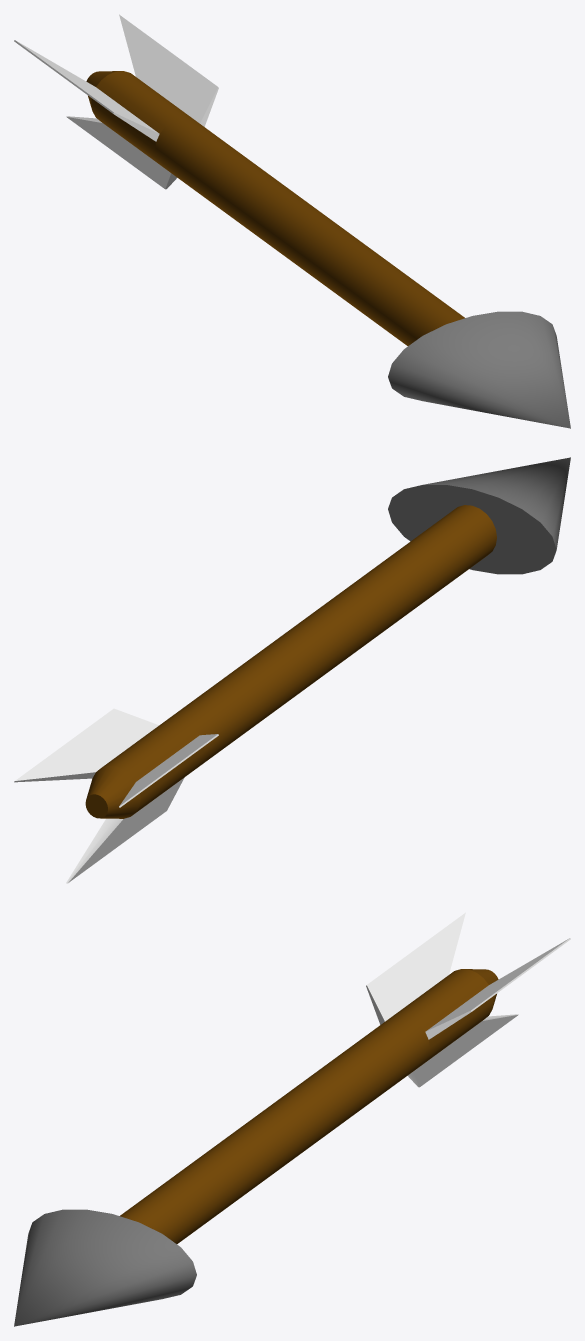
Rendered from Arrow_projectile.fbx.
3 views of the same model, one above another, from view 1: azimuth 30°, elevation 25°; view 2: azimuth 150°, elevation 25°; view 3: azimuth 330°, elevation 25° (orthographic).
Parts seen in each view (by area): view 1: pCone3; view 2: pCone3; view 3: pCone3.
Part boxes in pixels (left/top/right/bottom): pCone3: left=14, top=14, right=570, bottom=428; pCone3: left=14, top=457, right=570, bottom=883; pCone3: left=14, top=912, right=570, bottom=1326.
Size of the model in its own units: 4.86 by 2.69 by 25.15.
